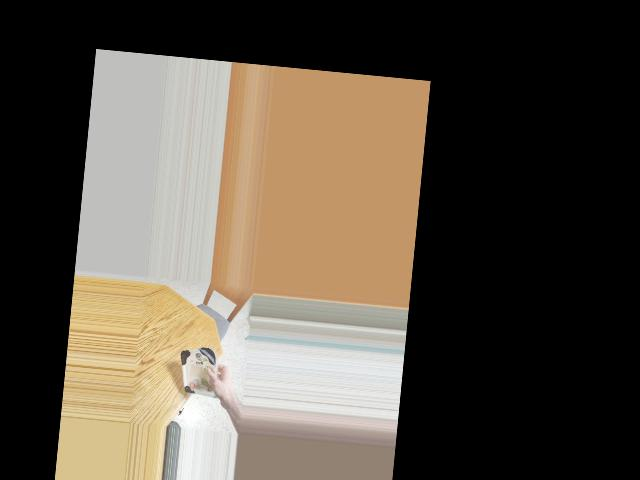cheese: (180, 342, 220, 404)
